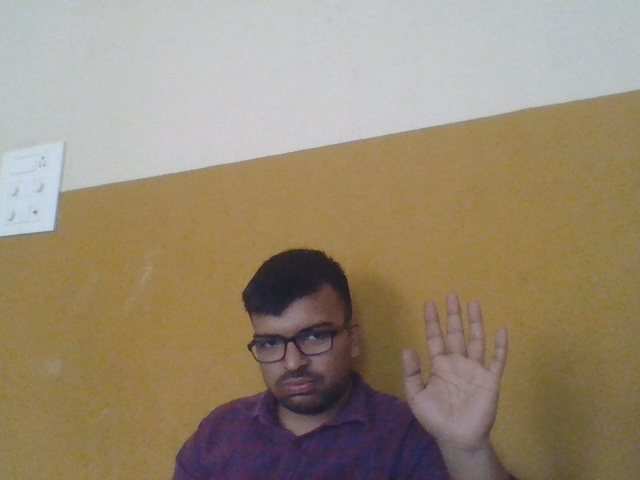Hello: (392, 288, 526, 456)
